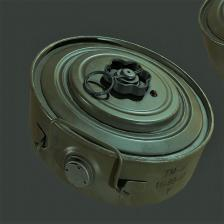TM-46: (16, 27, 216, 217)
